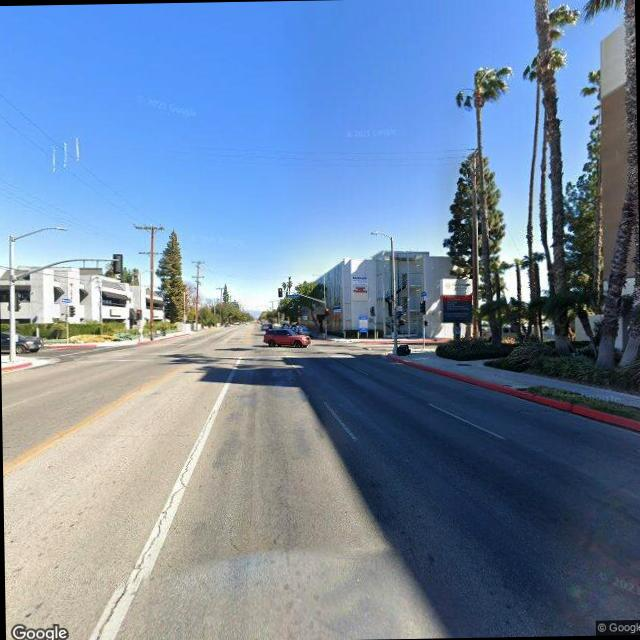pothole: (96, 410, 212, 638)
